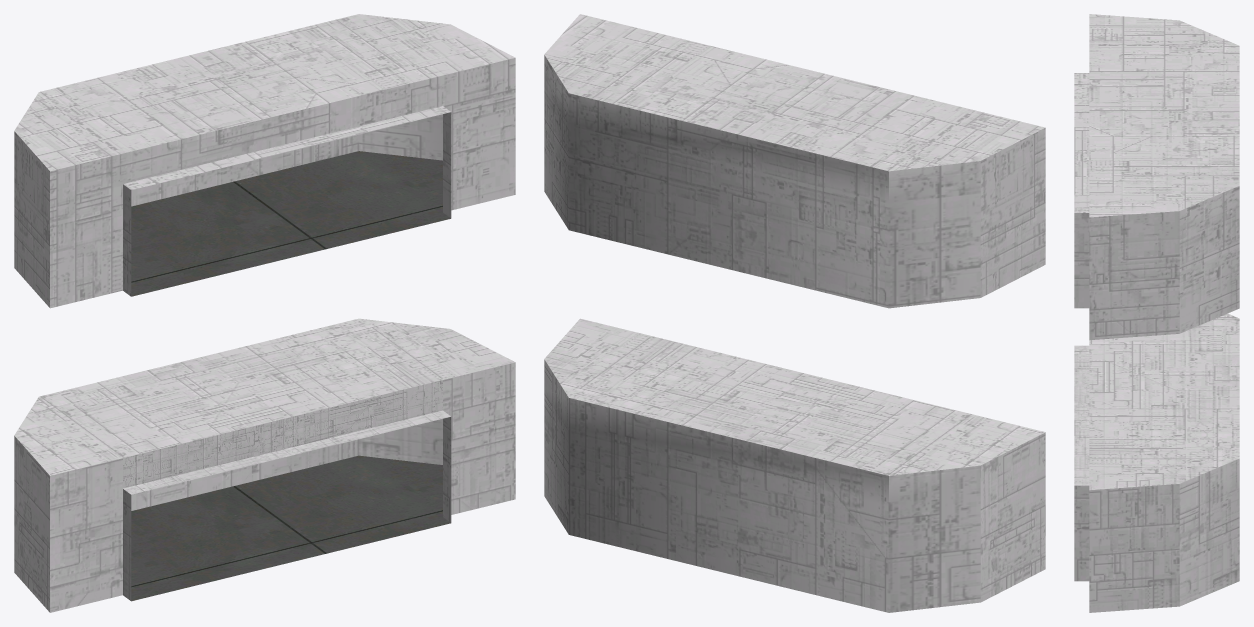
The model's file is thm_spc_star_destroyer_s01_r40_reactorlift_mesh_r40.fbx.
3 views of the same model, side by side, from view 1: azimuth 30°, elevation 25°; view 2: azimuth 150°, elevation 25°; view 3: azimuth 270°, elevation 25° (orthographic). The views are drawn at different scales.
Parts seen in each view (by area): view 1: mesh_node; view 2: mesh_node; view 3: mesh_node.
Part boxes in pixels (<box>): mesh_node: <box>14,14,515,612</box>; mesh_node: <box>544,14,1045,612</box>; mesh_node: <box>1074,14,1239,612</box>.
Bounding box in the file's own units: 16 × 14.5 × 5.5.
2 materials, 2 textured.
